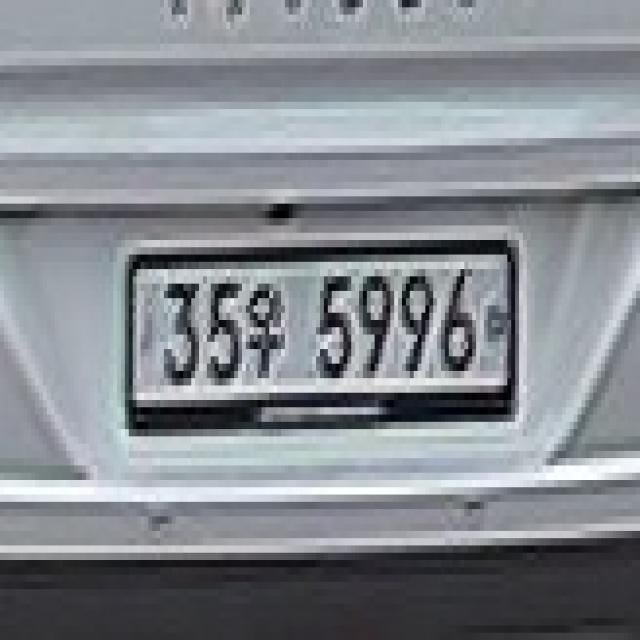3: (156, 269, 199, 386)
5: (203, 276, 246, 386), (316, 269, 355, 386)
6: (441, 269, 476, 378)
9: (398, 262, 433, 393), (355, 262, 394, 378)
license_plate: (125, 247, 515, 400)
u: (246, 276, 289, 386)
